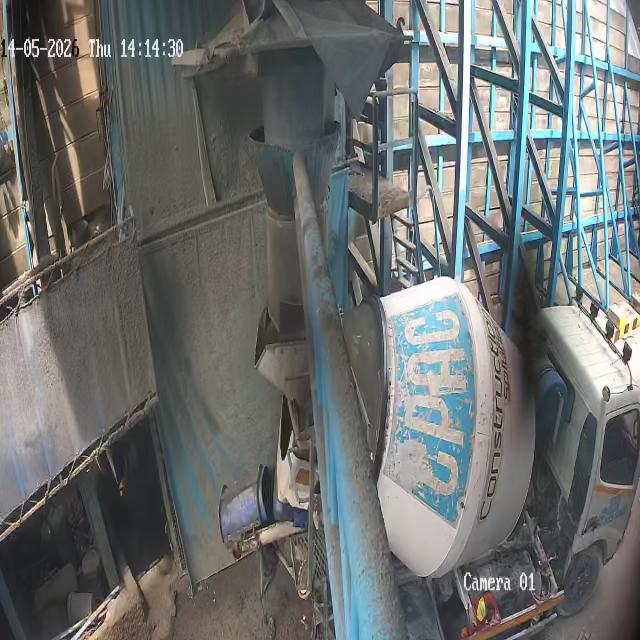cement_mixer_truck: (253, 278, 639, 639)
swing_chute: (251, 123, 339, 333)
